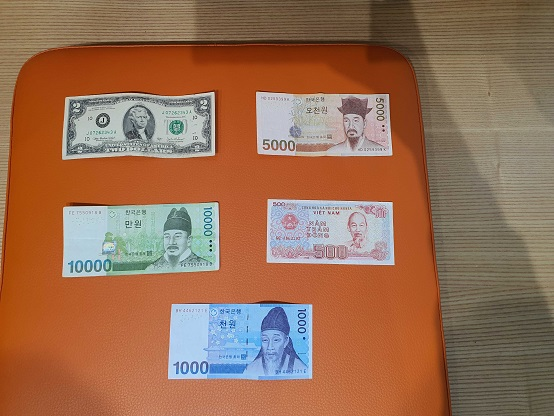10000won: (61, 204, 223, 277)
1000won: (168, 304, 312, 379)
2dollar: (60, 92, 215, 159)
5000won: (253, 91, 394, 157)
500vnd: (267, 198, 396, 266)
